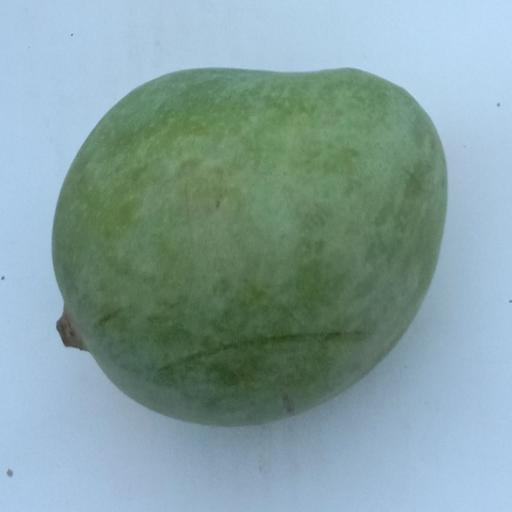mango-unripe: (12, 44, 436, 393)
